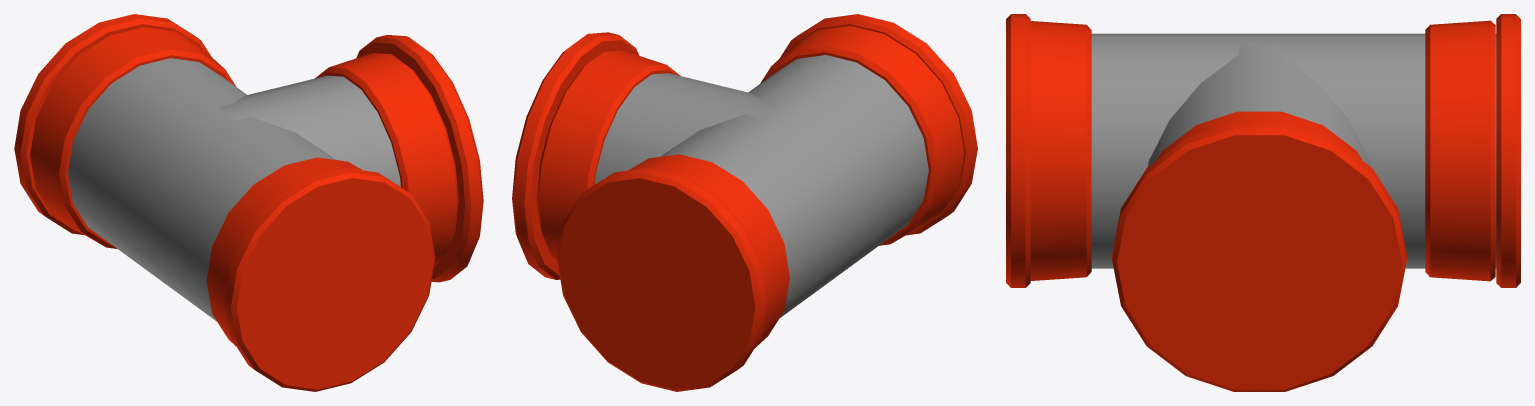
File: TPipe.FBX
3 renders of one model, left to right at view 1: azimuth 30°, elevation 25°; view 2: azimuth 150°, elevation 25°; view 3: azimuth 270°, elevation 25°, orthographic. The views are drawn at different scales.
Parts seen in each view (by area): view 1: Cylinder009, Cylinder004, Cylinder020, Cylinder019, Cylinder006, Cylinder007, Cylinder008, Cylinder013; view 2: Cylinder008, Cylinder004, Cylinder019, Cylinder013, Cylinder006, Cylinder007, Cylinder020, Cylinder009; view 3: Cylinder007, Cylinder004, Cylinder020, Cylinder013, Cylinder006, Cylinder008, Cylinder009, Cylinder019.
Boxes of the visible parts, x1,y1,x2,y2 form: Cylinder009: (224, 168, 435, 391); Cylinder004: (68, 58, 335, 321); Cylinder020: (30, 27, 235, 248); Cylinder019: (315, 53, 458, 266); Cylinder006: (218, 75, 400, 186); Cylinder007: (356, 35, 483, 282); Cylinder008: (14, 14, 210, 235); Cylinder013: (206, 157, 362, 345); Cylinder008: (557, 168, 767, 391); Cylinder004: (661, 55, 928, 318); Cylinder019: (537, 50, 680, 260); Cylinder013: (760, 25, 964, 245); Cylinder006: (594, 73, 777, 184); Cylinder007: (512, 32, 639, 279); Cylinder020: (628, 154, 789, 347); Cylinder009: (780, 14, 977, 235); Cylinder007: (1112, 122, 1406, 391); Cylinder004: (1091, 33, 1496, 268); Cylinder020: (1425, 20, 1495, 281); Cylinder013: (1030, 21, 1091, 280); Cylinder006: (1147, 45, 1371, 166); Cylinder008: (1496, 14, 1520, 287); Cylinder009: (1006, 14, 1030, 287); Cylinder019: (1156, 111, 1362, 160).
Bounding box in the file's own units: 81.67 × 59.11 × 105.
